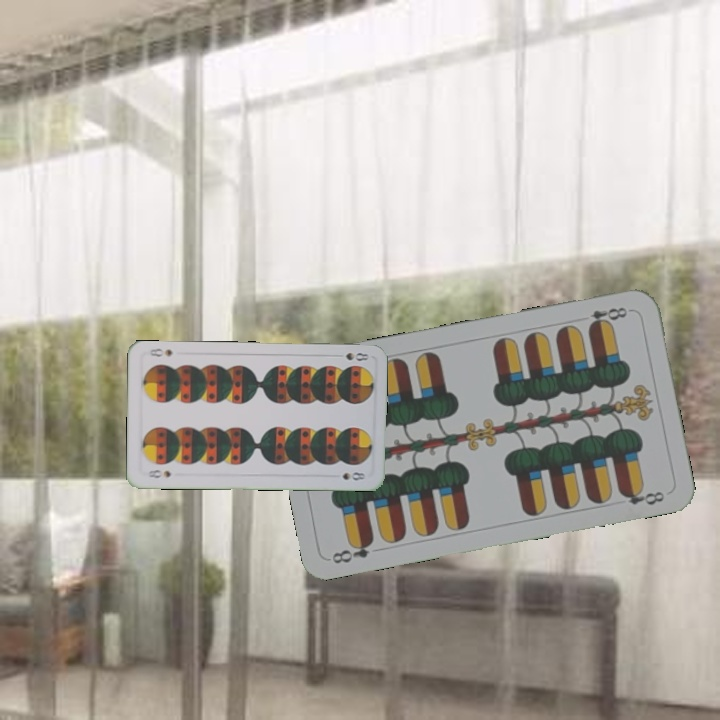E8: (327, 535, 377, 567), (584, 303, 634, 331)
S8: (142, 465, 174, 481), (342, 348, 371, 364)
